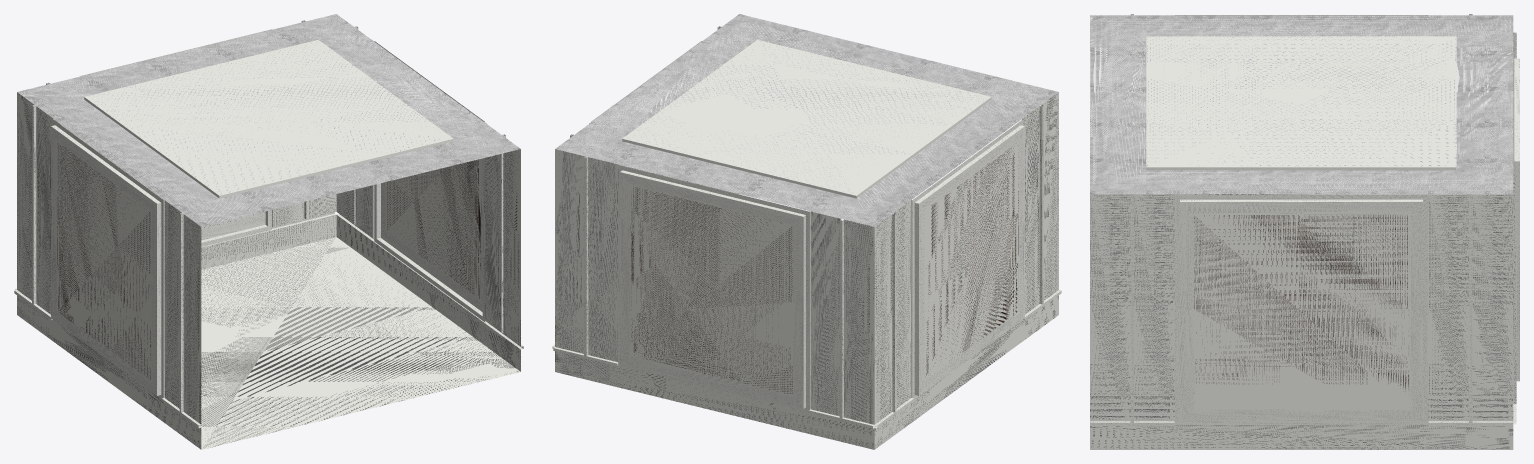
File: model2-scaled.glb
3 renders of one model, left to right at view 1: azimuth 30°, elevation 25°; view 2: azimuth 150°, elevation 25°; view 3: azimuth 270°, elevation 25°, orthographic. The views are drawn at different scales.
Visible parts, largest first — view 1: instance_1, instance_5.001, instance_5.002, instance_4.007, instance_3.007, instance_4.002, instance_3.008, instance_4.005, instance_4.008, instance_4.006, instance_3, instance_3.005 (+15 smaller); view 2: instance_5.001, instance_0.007, instance_5.002, instance_4.007, instance_0.002, instance_0.008, instance_0.005, instance_0.006, instance_0, instance_0.004, instance_0.001, instance_4.002 (+9 smaller); view 3: instance_3.007, instance_5.001, instance_5.002, instance_3.002, instance_3.008, instance_3.004, instance_3, instance_3.005, instance_3.006, instance_3.001, instance_0.003, instance_5 (+2 smaller).
Boxes of the visible parts, bbox=[...] form: instance_1: bbox=[199, 237, 520, 449]; instance_5.001: bbox=[85, 39, 453, 195]; instance_5.002: bbox=[17, 14, 520, 226]; instance_4.007: bbox=[57, 142, 150, 379]; instance_3.007: bbox=[387, 159, 480, 299]; instance_4.002: bbox=[51, 126, 156, 395]; instance_3.008: bbox=[336, 215, 520, 371]; instance_4.005: bbox=[181, 214, 201, 424]; instance_4.008: bbox=[17, 295, 201, 449]; instance_4.006: bbox=[33, 106, 53, 314]; instance_3: bbox=[484, 134, 504, 332]; instance_3.005: bbox=[503, 135, 520, 346]; instance_5.001: bbox=[622, 39, 990, 195]; instance_0.007: bbox=[630, 186, 792, 394]; instance_5.002: bbox=[555, 14, 1058, 226]; instance_4.007: bbox=[925, 142, 1018, 379]; instance_0.002: bbox=[620, 172, 803, 408]; instance_0.008: bbox=[555, 351, 874, 449]; instance_0.005: bbox=[842, 219, 874, 424]; instance_0.006: bbox=[586, 157, 618, 362]; instance_0: bbox=[810, 211, 841, 416]; instance_0.004: bbox=[555, 149, 585, 353]; instance_0.001: bbox=[553, 157, 873, 428]; instance_4.002: bbox=[919, 126, 1024, 395]; instance_3.007: bbox=[1194, 215, 1408, 409]; instance_5.001: bbox=[1146, 36, 1456, 167]; instance_5.002: bbox=[1090, 15, 1513, 194]; instance_3.002: bbox=[1180, 202, 1422, 422]; instance_3.008: bbox=[1090, 425, 1513, 449]; instance_3.004: bbox=[1472, 194, 1513, 421]; instance_3: bbox=[1134, 194, 1174, 421]; instance_3.005: bbox=[1090, 194, 1130, 421]; instance_3.006: bbox=[1428, 194, 1468, 421]; instance_3.001: bbox=[1090, 194, 1513, 425]; instance_0.003: bbox=[1514, 58, 1519, 381]; instance_5: bbox=[1146, 167, 1456, 170].
Bounding box in the file's own units: 0.4718 × 0.3085 × 0.4645.
Materials: 9 (4 with a texture image).
